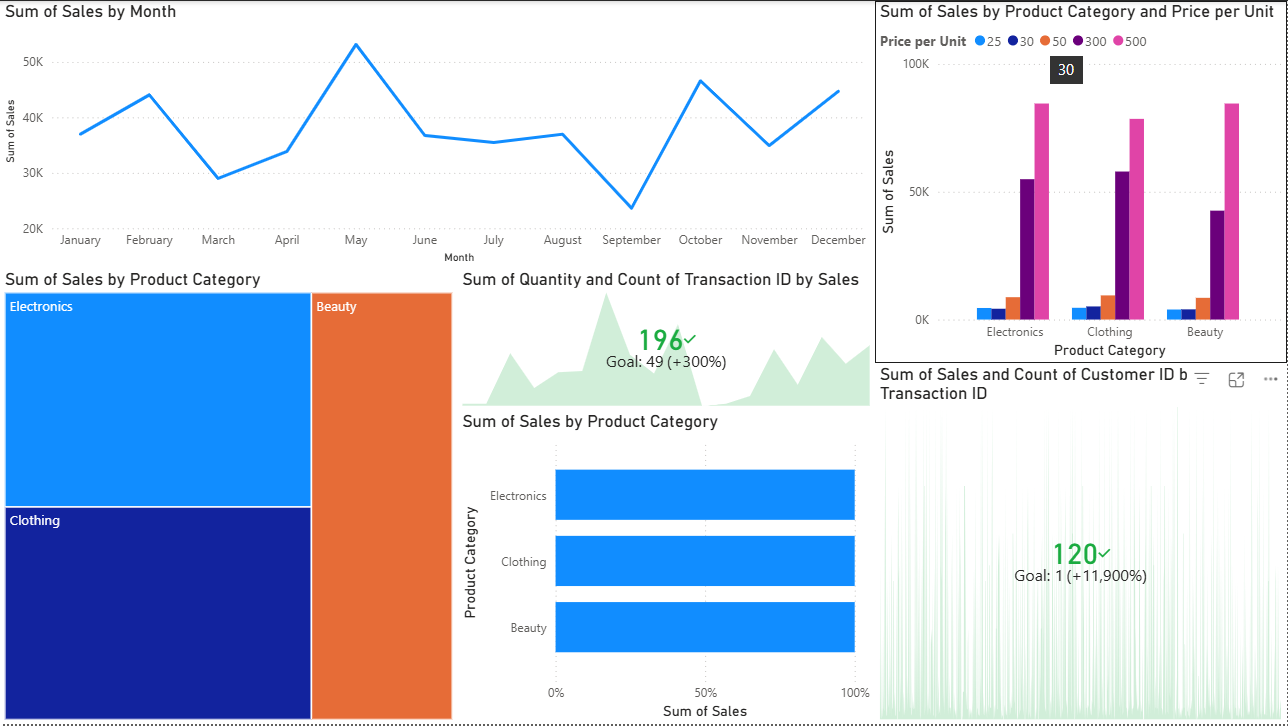

This screenshot's page, from the dashboard's own definition file:
{"tool":"powerbi","page":{"name":"Page 1","canvas":[1280,720],"ordinal":0},"visuals":[{"type":"lineChart","fields":{"Y":["Sum(Clean_sales_data.Sales)"],"Category":["Clean_sales_data.Date.Variation.Date Hierarchy.Month"]},"box":[0,0,870.8,266.2],"z":0},{"type":"hundredPercentStackedBarChart","fields":{"Y":["Sum(Clean_sales_data.Sales)"],"Category":["Clean_sales_data.Product Category"]},"box":[455.3,408,415.5,312.2],"z":1000},{"type":"treemap","fields":{"Values":["Sum(Clean_sales_data.Sales)"],"Group":["Clean_sales_data.Product Category"]},"box":[0,266.2,455.3,454],"z":2000},{"type":"kpi","fields":{"Indicator":["Sum(Clean_sales_data.Sales)"],"TrendLine":["Clean_sales_data.Transaction ID"],"Goal":["CountNonNull(Clean_sales_data.Customer ID)"]},"box":[870.8,360.7,409.3,359.5],"z":2001},{"type":"kpi","fields":{"Goal":["CountNonNull(Clean_sales_data.Transaction ID)"],"Indicator":["Sum(Clean_sales_data.Quantity)"],"TrendLine":["Clean_sales_data.Sales"]},"box":[455.3,266.2,415.5,141.8],"z":2002},{"type":"lineClusteredColumnComboChart","fields":{"Category":["Clean_sales_data.Product Category"],"Y":["Sum(Clean_sales_data.Sales)"],"Series":["Clean_sales_data.Price per Unit"]},"box":[870.8,0,409.3,360.7],"z":2003}]}

Visuals, with their boxes in screenshot pixels (x1, y1, x2, y2), scaled from the page's 1280x720 canvas onto the 1288x727 screenshot:
lineChart - Sum(Clean_sales_data.Sales) x Clean_sales_data.Date.Variation.Date Hierarchy.Month: {"x1": 0, "y1": 0, "x2": 876, "y2": 269}
hundredPercentStackedBarChart - Sum(Clean_sales_data.Sales) x Clean_sales_data.Product Category: {"x1": 458, "y1": 412, "x2": 876, "y2": 726}
treemap - Sum(Clean_sales_data.Sales) x Clean_sales_data.Product Category: {"x1": 0, "y1": 269, "x2": 458, "y2": 726}
kpi - Sum(Clean_sales_data.Sales) x Clean_sales_data.Transaction ID: {"x1": 876, "y1": 364, "x2": 1287, "y2": 726}
kpi - CountNonNull(Clean_sales_data.Transaction ID) x Sum(Clean_sales_data.Quantity): {"x1": 458, "y1": 269, "x2": 876, "y2": 412}
lineClusteredColumnComboChart - Clean_sales_data.Product Category x Sum(Clean_sales_data.Sales): {"x1": 876, "y1": 0, "x2": 1287, "y2": 364}
